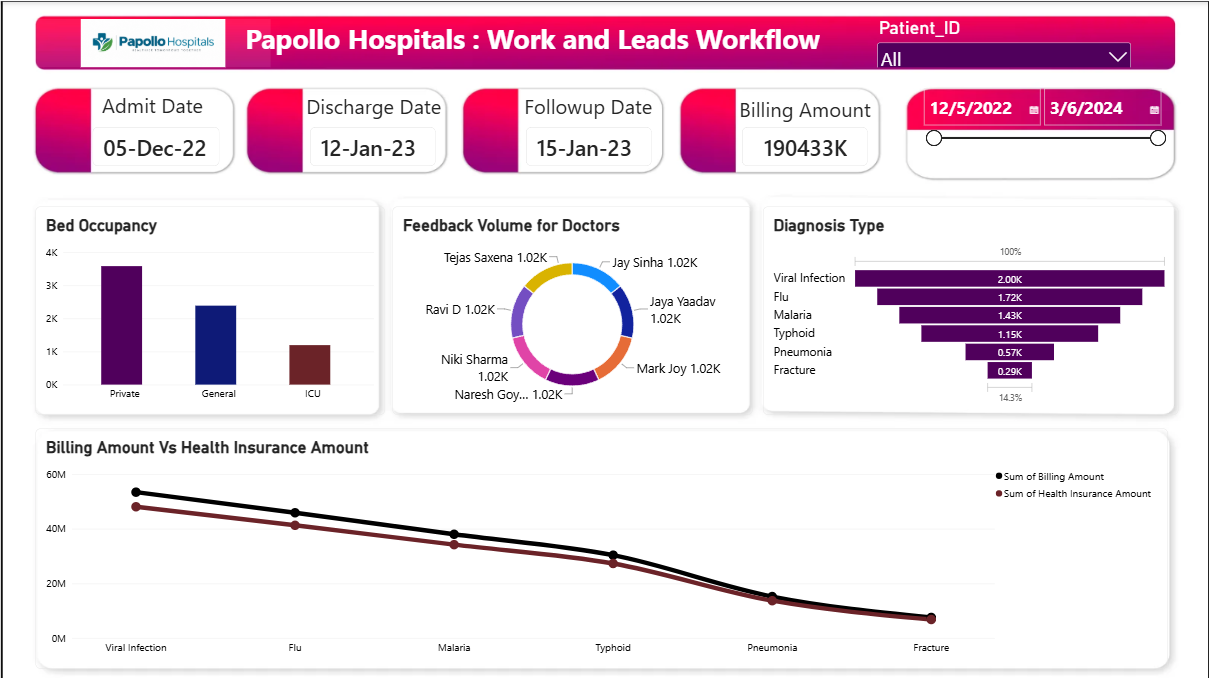

Layout of this report page (visuals, bound fields, positions):
{"tool":"powerbi","page":{"name":"Page 1","canvas":[1920,1080],"ordinal":0},"visuals":[{"type":"cardVisual","fields":{"Data":["Min(Sheet1.Admit_Date)"]},"box":[145.5,200.4,202.8,62],"z":0},{"type":"image","box":[53.9,28.3,374.2,76.5],"z":1000},{"type":"textbox","box":[379.8,31.2,932.6,76.5],"z":2000},{"type":"slicer","fields":{"Values":["Sheet1.Patient_ID"]},"box":[1389,25.5,413.9,79.4],"z":3000},{"type":"textbox","box":[124.1,143.2,233.8,62],"z":4000},{"type":"textbox","box":[443.8,145.5,298.2,62],"z":5000},{"type":"cardVisual","fields":{"Data":["Min(Sheet1.Discharge_Date)"]},"box":[491.5,200.4,200.4,62],"z":6000},{"type":"textbox","box":[804.1,145.5,260.1,54.9],"z":7000},{"type":"cardVisual","fields":{"Data":["Min(Sheet1.Followup Date)"]},"box":[835.1,200.4,200.4,62],"z":8000},{"type":"textbox","box":[1169.1,150.3,219.5,45.3],"z":9000},{"type":"cardVisual","fields":{"Data":["Sum(Sheet1.Billing Amount)"]},"box":[1178.6,200.4,200.4,62],"z":10000},{"type":"slicer","fields":{"Values":["Sheet1.Admit_Date"]},"box":[1460.2,133.6,396.1,97.8],"z":10001},{"type":"columnChart","title":"Bed Occupancy","fields":{"Category":["Sheet1.Bed_Occupancy"],"Y":["CountNonNull(Sheet1.Bed_Occupancy)"]},"box":[54.9,326.9,555.9,331.6],"z":10002},{"type":"donutChart","title":"Feedback Volume for Doctors","fields":{"Category":["Sheet1.Doctor"],"Y":["CountNonNull(Sheet1.Doctor)"]},"box":[622.7,326.9,572.6,331.6],"z":10003},{"type":"funnel","title":"Diagnosis Type","fields":{"Category":["Sheet1.Diagnosis"],"Y":["CountNonNull(Sheet1.Diagnosis)"]},"box":[1212,326.9,660.9,331.6],"z":10004},{"type":"lineChart","title":"Billing Amount Vs Health Insurance Amount","fields":{"Category":["Sheet1.Diagnosis"],"Y":["Sum(Sheet1.Billing Amount)","Sum(Sheet1.Health Insurance Amount)"]},"box":[54.9,680,1801.4,381.7],"z":10005}]}

Visuals, with their boxes in screenshot pixels (x1, y1, x2, y2), scaled from the page's 1920x1080 canvas onto the 1209x678 screenshot:
cardVisual - Min(Sheet1.Admit_Date): [left=92, top=126, right=219, bottom=165]
image: [left=34, top=18, right=270, bottom=66]
textbox: [left=239, top=20, right=826, bottom=68]
slicer - Sheet1.Patient_ID: [left=875, top=16, right=1135, bottom=66]
textbox: [left=78, top=90, right=225, bottom=129]
textbox: [left=279, top=91, right=467, bottom=130]
cardVisual - Min(Sheet1.Discharge_Date): [left=309, top=126, right=436, bottom=165]
textbox: [left=506, top=91, right=670, bottom=126]
cardVisual - Min(Sheet1.Followup Date): [left=526, top=126, right=652, bottom=165]
textbox: [left=736, top=94, right=874, bottom=123]
cardVisual - Sum(Sheet1.Billing Amount): [left=742, top=126, right=868, bottom=165]
slicer - Sheet1.Admit_Date: [left=919, top=84, right=1169, bottom=145]
"Bed Occupancy" columnChart: [left=35, top=205, right=385, bottom=413]
"Feedback Volume for Doctors" donutChart: [left=392, top=205, right=753, bottom=413]
"Diagnosis Type" funnel: [left=763, top=205, right=1179, bottom=413]
"Billing Amount Vs Health Insurance Amount" lineChart: [left=35, top=427, right=1169, bottom=667]
